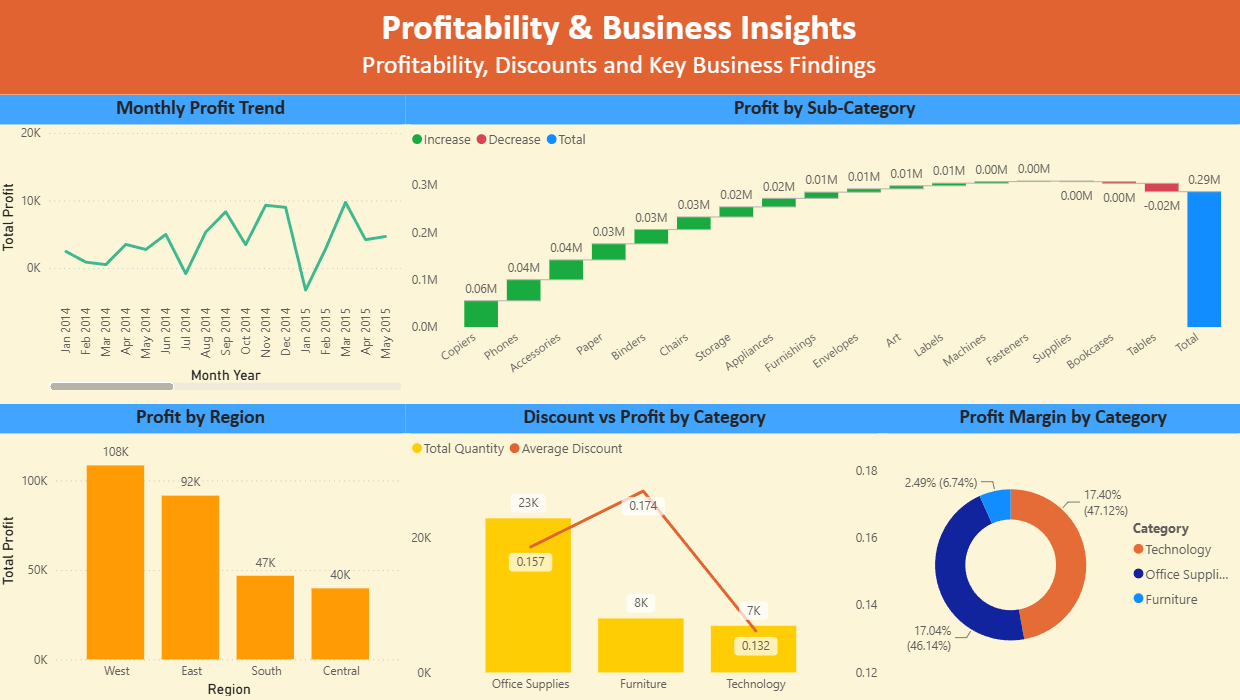

Layout of this report page (visuals, bound fields, positions):
{"tool":"powerbi","page":{"name":"Profitability & Business Insights","canvas":[1280,720],"ordinal":3},"visuals":[{"type":"textbox","box":[0,0,1280,98],"z":0},{"type":"lineChart","title":"Monthly Profit Trend","fields":{"Category":["Calendar.Month Year"],"Y":["Sample - Superstore.Total Profit"]},"box":[0,98.5,421.5,307.7],"z":1},{"type":"clusteredColumnChart","title":"Profit by Region","fields":{"Category":["Sample - Superstore.Region"],"Y":["Sample - Superstore.Total Profit"]},"box":[0,415.4,421.5,304.6],"z":2},{"type":"waterfallChart","title":"Profit by Sub-Category","fields":{"Category":["Sample - Superstore.Sub-Category"],"Y":["Sample - Superstore.Total Profit"]},"box":[421.5,98.5,858.5,307.7],"z":3},{"type":"lineClusteredColumnComboChart","title":"Discount vs Profit by Category","fields":{"Category":["Sample - Superstore.Category"],"Y":["Sample - Superstore.Total Quantity"],"Y2":["Sample - Superstore.Average Discount"]},"box":[422,415,489,305],"z":4},{"type":"donutChart","title":"Profit Margin by Category","fields":{"Category":["Sample - Superstore.Category"],"Y":["Sample - Superstore.Profit Margin"]},"box":[910.8,415.4,369.2,304.6],"z":5}]}

Visuals, with their boxes in screenshot pixels (x1, y1, x2, y2), scaled from the page's 1280x720 canvas onto the 1240x700 screenshot:
textbox: x1=0, y1=0, x2=1239, y2=95
"Monthly Profit Trend" lineChart: x1=0, y1=96, x2=408, y2=395
"Profit by Region" clusteredColumnChart: x1=0, y1=404, x2=408, y2=699
"Profit by Sub-Category" waterfallChart: x1=408, y1=96, x2=1239, y2=395
"Discount vs Profit by Category" lineClusteredColumnComboChart: x1=409, y1=403, x2=883, y2=699
"Profit Margin by Category" donutChart: x1=882, y1=404, x2=1239, y2=699
